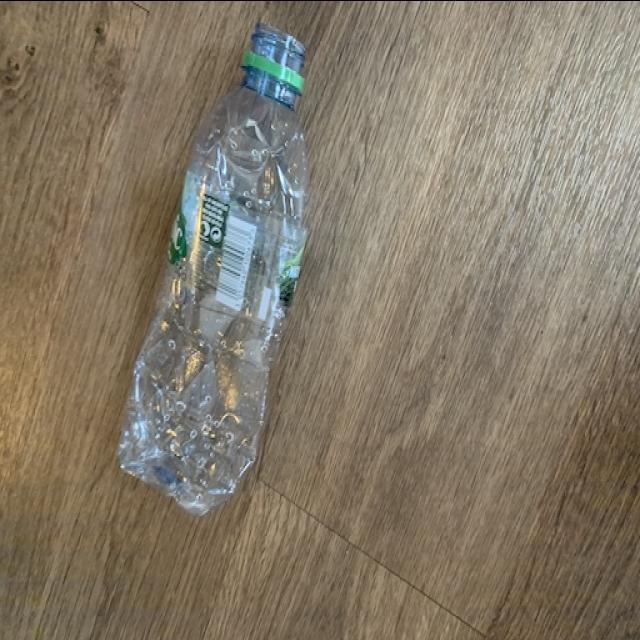PET: (116, 20, 320, 518)
